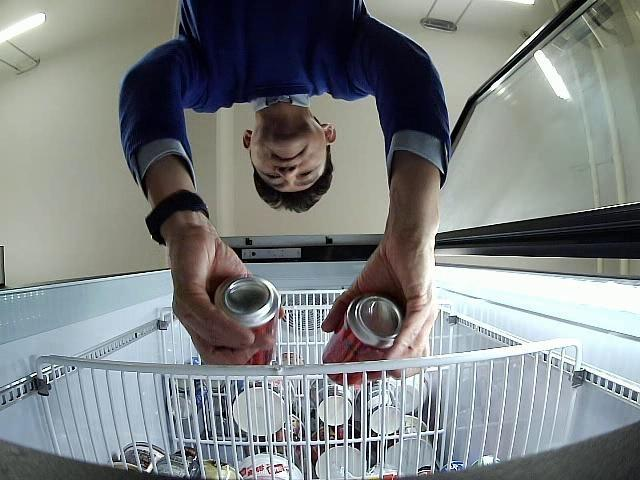11_cocaColaZero: (322, 292, 402, 385), (214, 274, 282, 364)
